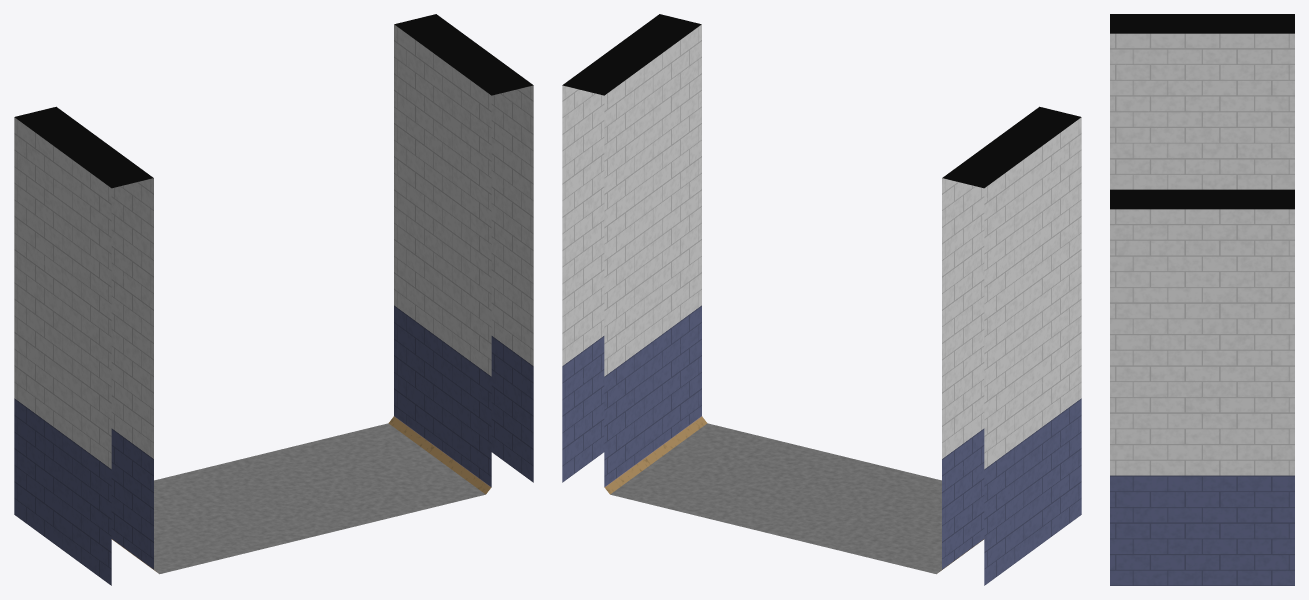
File: hallwayShort.glb
3 renders of one model, left to right at view 1: azimuth 30°, elevation 25°; view 2: azimuth 150°, elevation 25°; view 3: azimuth 270°, elevation 25°, orthographic. The views are drawn at different scales.
Visible parts, largest first — view 1: basic_hallway.002; view 2: basic_hallway.002; view 3: basic_hallway.002.
Part boxes in pixels (box(x1,y1,x2,y2)): basic_hallway.002: box(14, 14, 533, 585); basic_hallway.002: box(562, 14, 1081, 585); basic_hallway.002: box(1110, 14, 1294, 585).
Size of the model in its own units: 10 by 9 by 4.
Materials: 1 (1 with a texture image).
